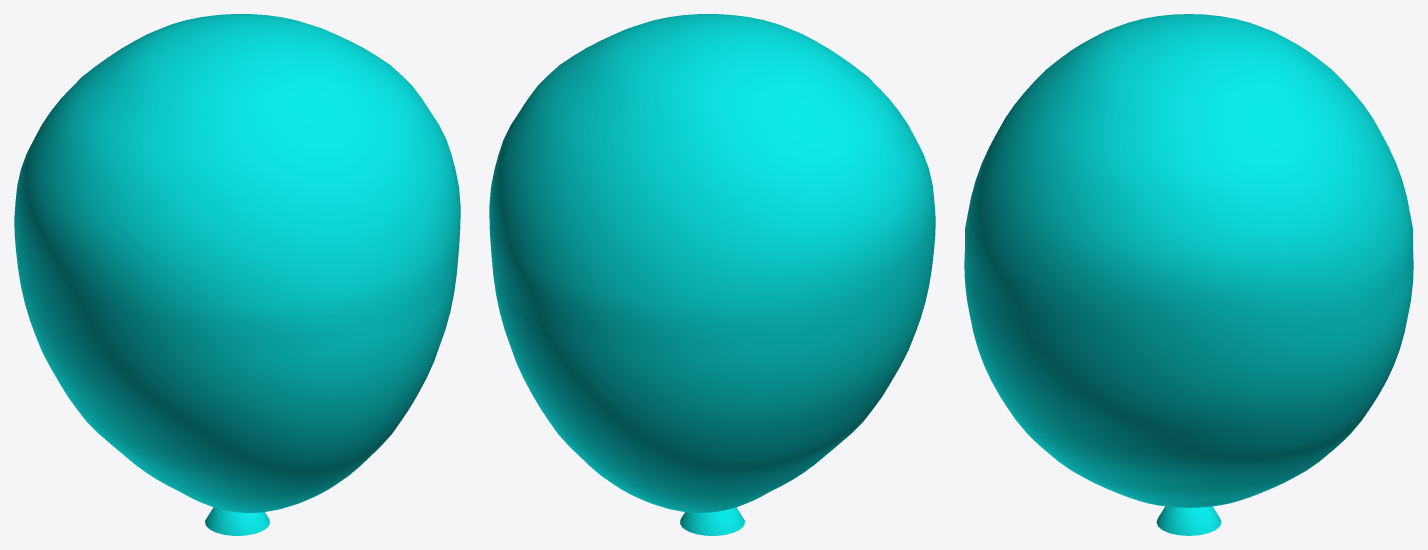
The model's file is enemy.fbx.
The picture shows the model from 3 angles, left to right: view 1: azimuth 30°, elevation 25°; view 2: azimuth 150°, elevation 25°; view 3: azimuth 270°, elevation 25°; orthographic projection.
Parts seen in each view (by area): view 1: pSphere2; view 2: pSphere2; view 3: pSphere2.
Part boxes in pixels (<box>): pSphere2: <box>14,14,460,535</box>; pSphere2: <box>489,14,935,535</box>; pSphere2: <box>964,14,1413,535</box>.
Bounding box in the file's own units: 3.79 × 4.53 × 3.81.
